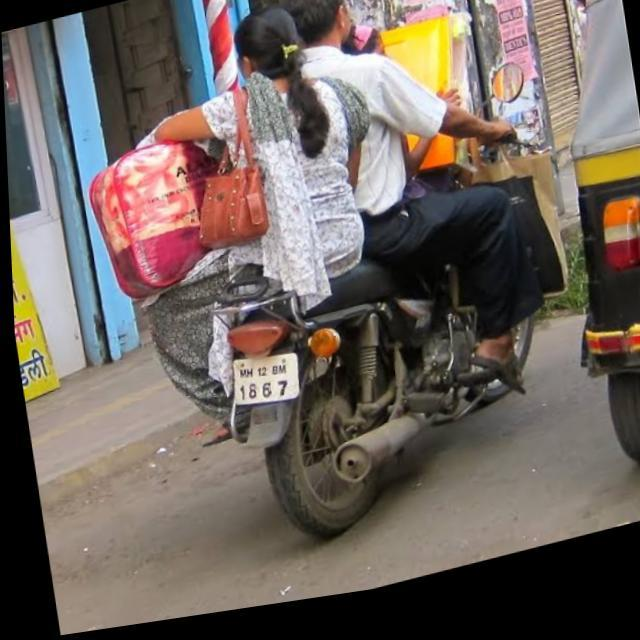Nonhelmet: (227, 3, 313, 82)
